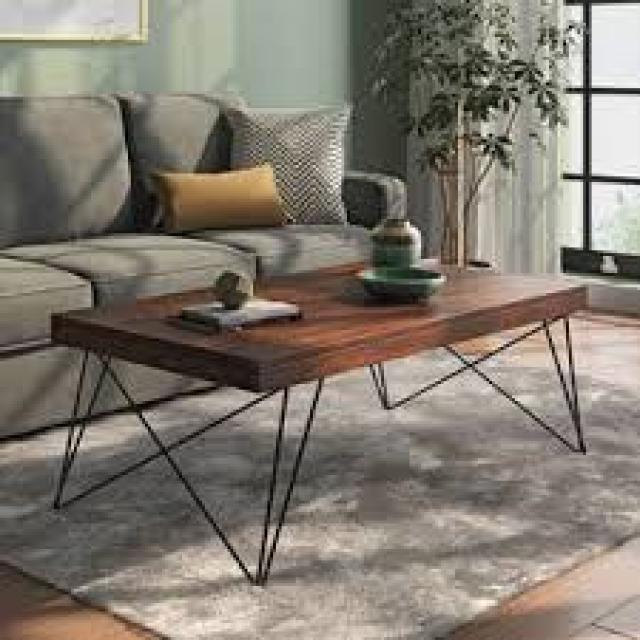obstacle: (23, 262, 640, 492)
